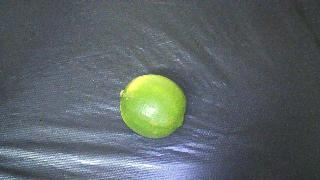LOCAL: (120, 74, 186, 138)
